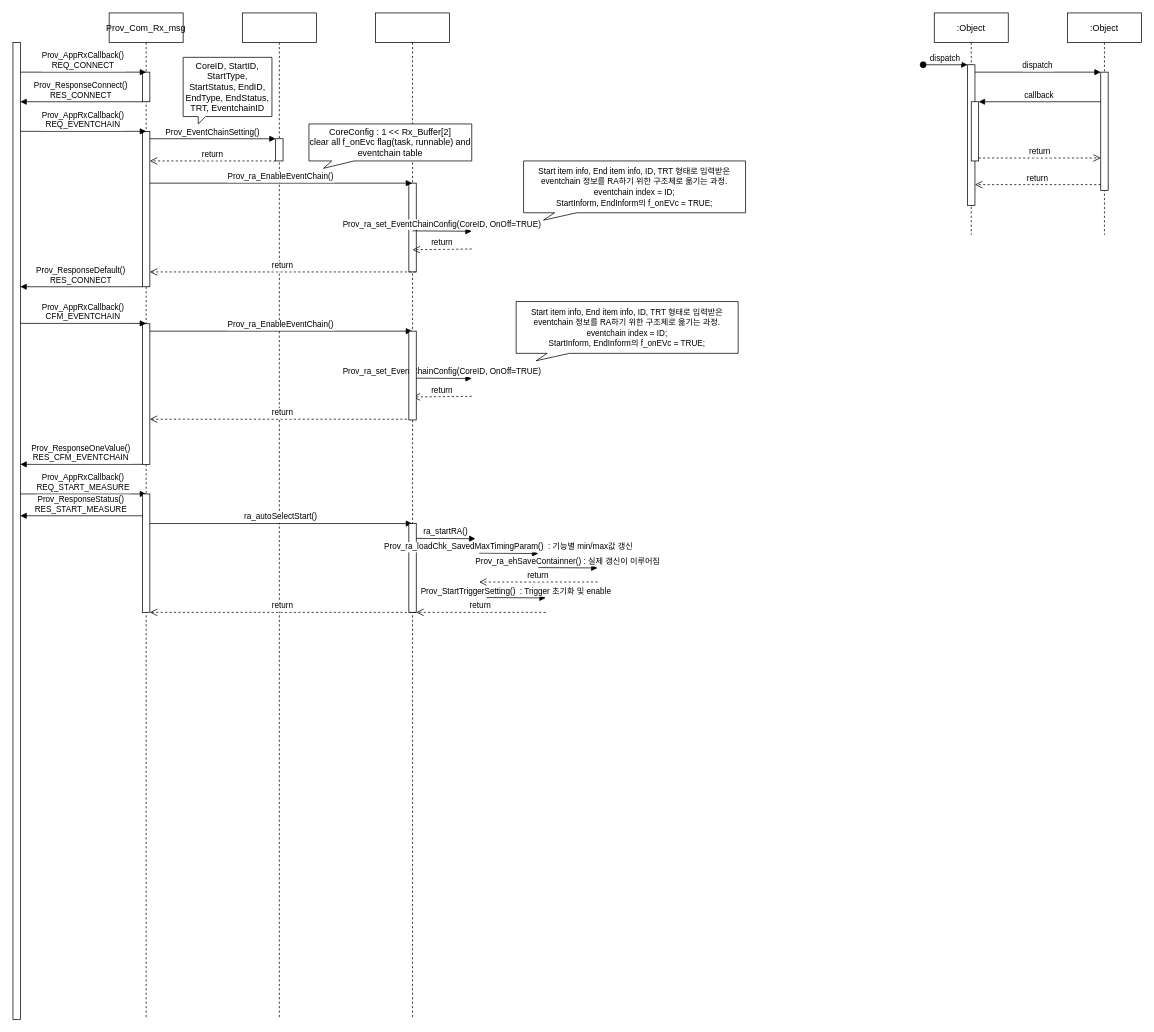
Image size: 1154x1032. Some labels were removed from this diagram. Here are the shapes that lost their labels. From the top down, the box of each, then its label:
(242, 12, 316, 1019): Prov_Flex
(375, 12, 450, 1019): Prov_RealAnalysis
